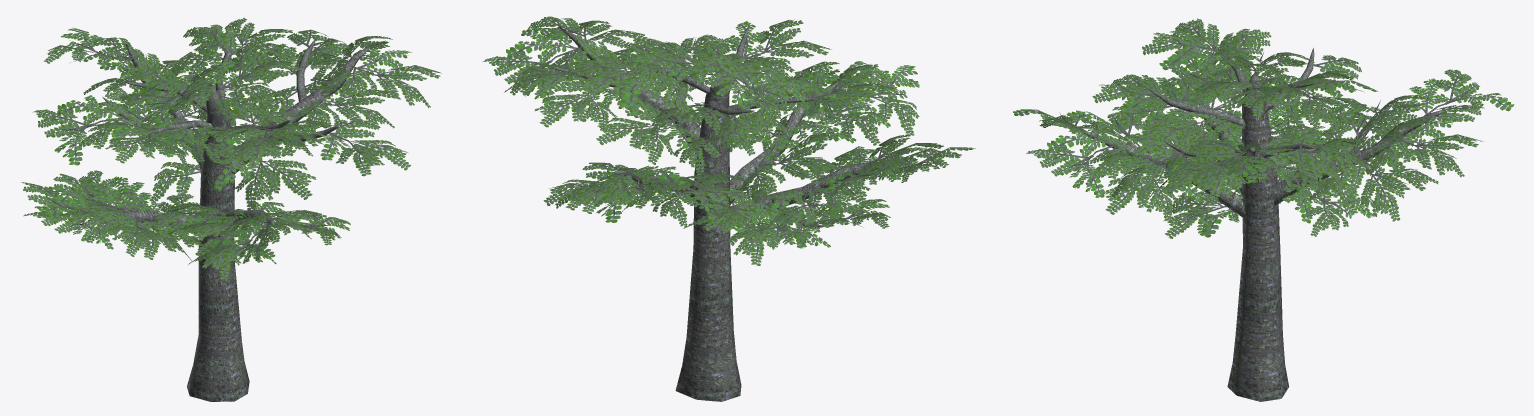
File: Tree_03_02.obj
3 renders of one model, left to right at view 1: azimuth 30°, elevation 25°; view 2: azimuth 150°, elevation 25°; view 3: azimuth 270°, elevation 25°, orthographic. The views are drawn at different scales.
Visible parts, largest first — view 1: polySurface1588; view 2: polySurface1588; view 3: polySurface1588.
Part boxes in pixels (x1,y1,x2,y2): polySurface1588: (21, 18, 441, 401); polySurface1588: (483, 16, 975, 401); polySurface1588: (1013, 18, 1514, 401).
Size of the model in its own units: 211 by 155 by 217.
1 material, 1 textured.
